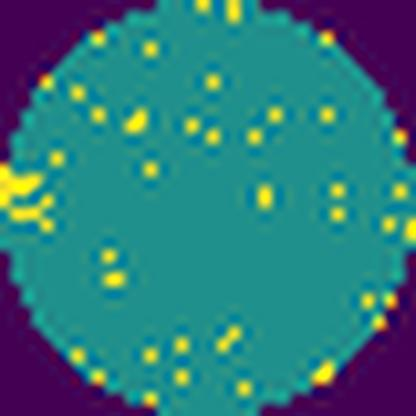Edge-Loc: (0, 163, 63, 235)
